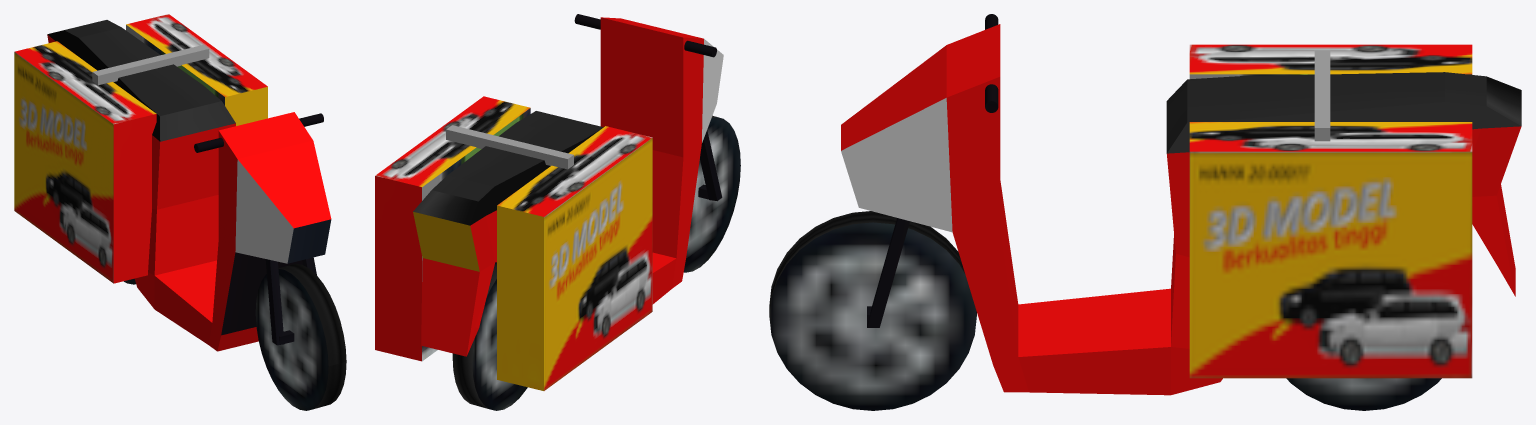
Rendered from generic_low_poly_scooter_bike.glb.
The picture shows the model from 3 angles, left to right: view 1: azimuth 30°, elevation 25°; view 2: azimuth 150°, elevation 25°; view 3: azimuth 270°, elevation 25°; orthographic projection. The views are drawn at different scales.
Parts seen in each view (by area): view 1: Cube, Cube.002; view 2: Cube.002, Cube; view 3: Cube, Cube.002.
Part boxes in pixels (left/top/right/bottom): Cube: left=47, top=20, right=346, bottom=410; Cube.002: left=14, top=14, right=267, bottom=283; Cube.002: left=375, top=96, right=652, bottom=390; Cube: left=413, top=14, right=740, bottom=410; Cube: left=769, top=14, right=1521, bottom=410; Cube.002: left=1189, top=44, right=1472, bottom=378.
Bounding box in the file's own units: 1.12 × 1.72 × 3.31.
2 materials, 2 textured.
